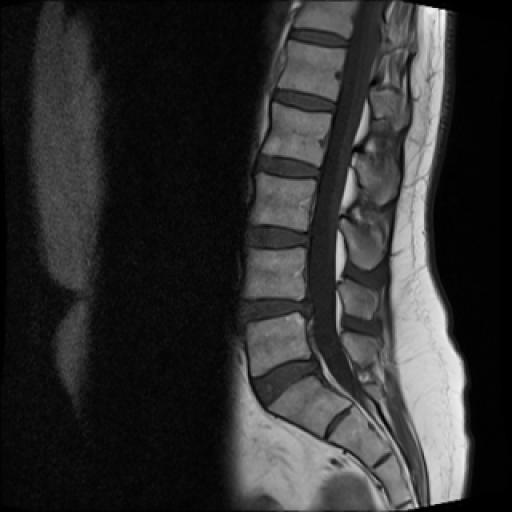L1: (278, 40, 346, 100)
L2: (262, 102, 332, 166)
L3: (251, 173, 316, 230)
L4: (246, 249, 306, 300)
L5: (247, 313, 310, 376)
S1: (269, 376, 350, 436)
